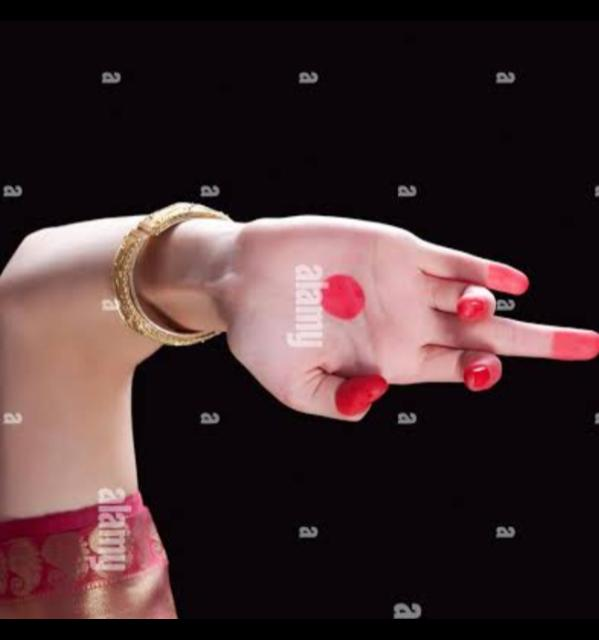shuktund: (224, 218, 599, 419)
